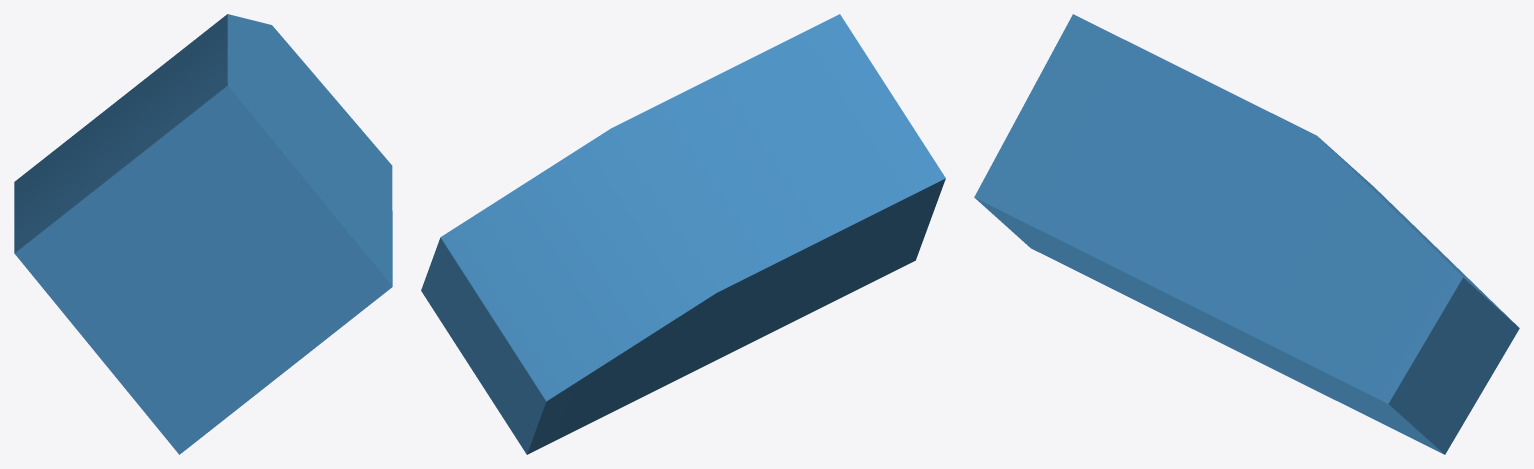
File: Driver_Thumb_B_3.fbx
3 renders of one model, left to right at view 1: azimuth 30°, elevation 25°; view 2: azimuth 150°, elevation 25°; view 3: azimuth 270°, elevation 25°, orthographic. The views are drawn at different scales.
Visible parts, largest first — view 1: Driver_Thumb_B_3; view 2: Driver_Thumb_B_3; view 3: Driver_Thumb_B_3.
Part boxes in pixels (x1,y1,x2,y2): Driver_Thumb_B_3: (14,14,392,454); Driver_Thumb_B_3: (421,14,945,454); Driver_Thumb_B_3: (974,14,1519,454).
Size of the model in its own units: 3.89 by 3.2 by 4.28.
